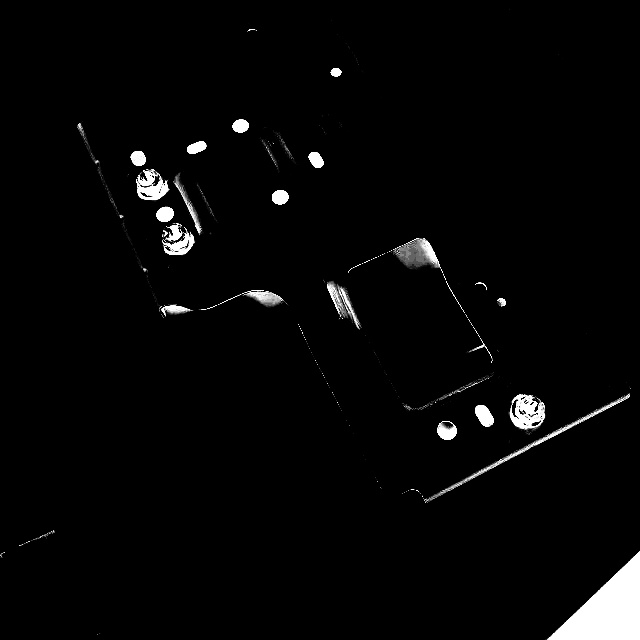dog: (508, 391, 548, 430), (158, 221, 196, 257), (134, 167, 170, 202)
